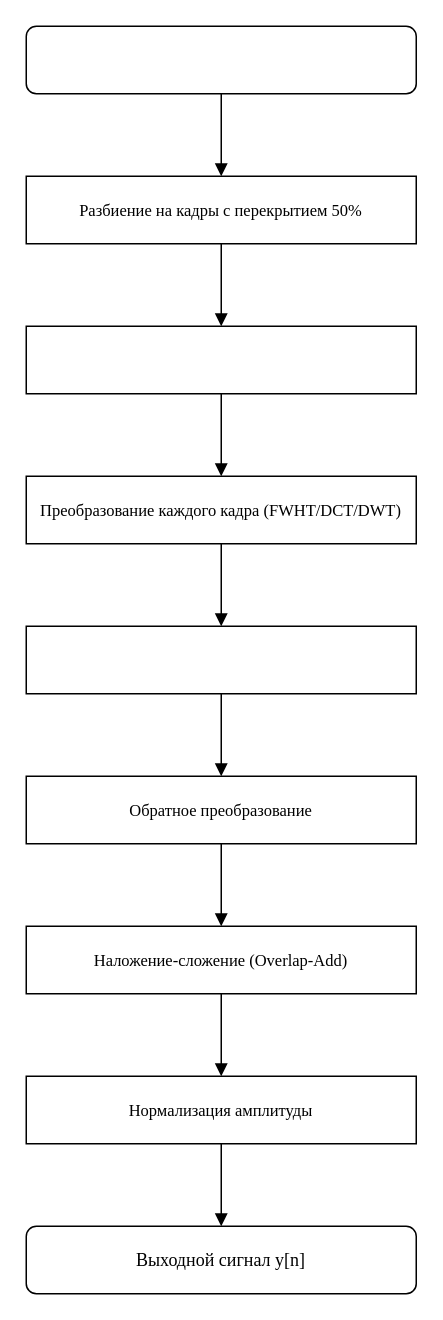
The diagram is 443 pixels wide and 1320 high, and some of its shapes have lost their labels. The shapes that lost their labels are listed below. From the top down, each one's centre as x and y in pixels, then its label:
(x=220, y=59): Входной аудиосигнал x[n]
(x=220, y=359): Применение весового окна (w[n])
(x=220, y=659): Пороговая обработка коэффициентов
